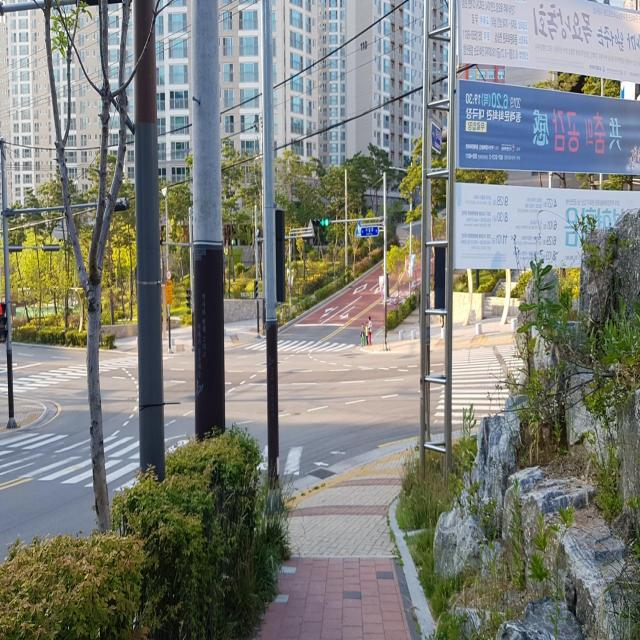빨간불: (0, 303, 7, 342)
횡단보도: (2, 426, 304, 488), (433, 342, 524, 427), (242, 341, 369, 352)
